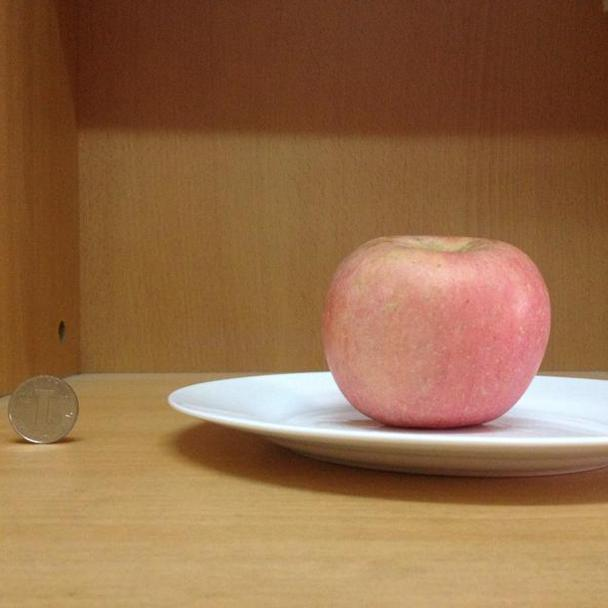apple: (320, 226, 555, 431)
